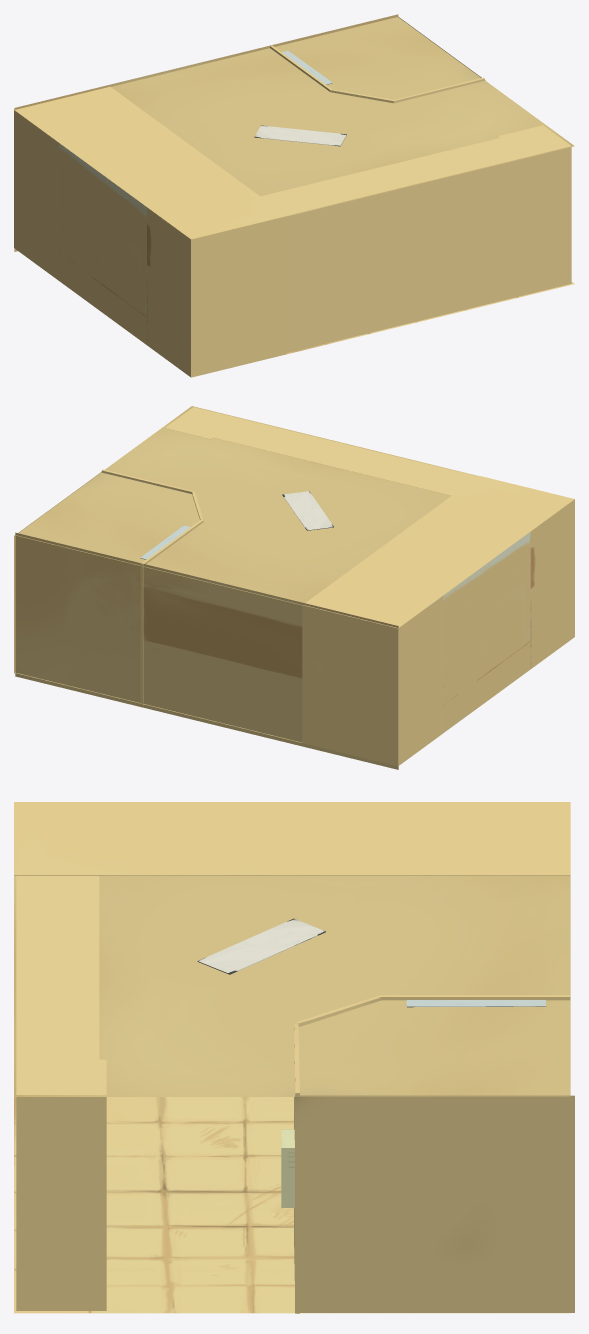
The model's file is NormalRoom.fbx.
The picture shows the model from 3 angles, top to bottom: view 1: azimuth 30°, elevation 25°; view 2: azimuth 150°, elevation 25°; view 3: azimuth 270°, elevation 25°; orthographic projection. The views are drawn at different scales.
Visible parts, largest first — view 1: Plane, Meuble, Ceiling, Plane.001, Room Light; view 2: Plane, Plane.001, Ceiling, Meuble, Room Light, Wall1; view 3: Ceiling, Plane, Plane.002, Meuble, Room Light, Intercom, Wall1, Bathroom Light.
Part boxes in pixels (x1,y1,x2,y2): Plane: [14, 86, 574, 377]; Meuble: [260, 125, 571, 352]; Ceiling: [111, 17, 574, 216]; Plane.001: [14, 14, 398, 251]; Room Light: [254, 125, 346, 146]; Plane: [15, 475, 574, 766]; Plane.001: [15, 532, 398, 769]; Ceiling: [16, 406, 478, 605]; Meuble: [165, 407, 477, 495]; Room Light: [282, 491, 333, 530]; Wall1: [140, 519, 203, 705]; Ceiling: [14, 876, 570, 1096]; Plane: [14, 802, 570, 1313]; Plane.002: [295, 1095, 574, 1312]; Meuble: [16, 876, 106, 1310]; Room Light: [197, 918, 325, 974]; Intercom: [281, 1129, 294, 1207]; Wall1: [379, 995, 570, 1000]; Bathroom Light: [406, 1000, 546, 1007].
Bounding box in the file's own units: 1000 × 359 × 805.
